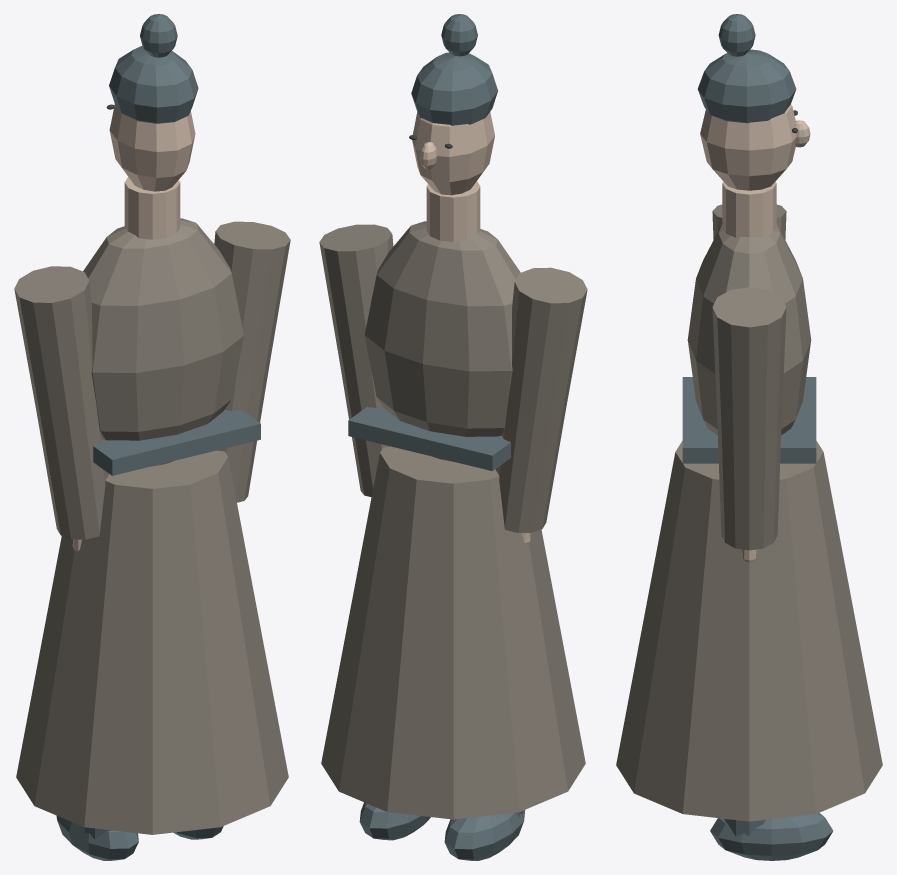
Rendered from CH-XTY.glb.
The picture shows the model from 3 angles, left to right: view 1: azimuth 30°, elevation 25°; view 2: azimuth 150°, elevation 25°; view 3: azimuth 270°, elevation 25°; orthographic projection. The views are drawn at different scales.
Parts seen in each view (by area): view 1: robe_skirt, torso, upper_arm_L, upper_arm_R, sleeve_L, hair, head, belt, neck, sleeve_R, boot_L, hair_bun; view 2: robe_skirt, torso, upper_arm_L, upper_arm_R, sleeve_L, hair, belt, head, boot_L, neck, sleeve_R, boot_R (+1 smaller); view 3: robe_skirt, torso, upper_arm_R, sleeve_R, head, hair, belt, boot_R, neck, hair_bun, upper_arm_L.
Part boxes in pixels (x1,y1,x2,y2): robe_skirt: (16, 450, 288, 834); torso: (83, 218, 243, 466); upper_arm_L: (14, 266, 97, 423); upper_arm_R: (214, 221, 290, 378); sleeve_L: (36, 411, 108, 539); hair: (109, 46, 198, 123); head: (109, 104, 195, 191); belt: (93, 410, 260, 475); neck: (124, 177, 180, 239); sleeve_R: (217, 370, 268, 502); boot_L: (56, 816, 138, 860); hair_bun: (140, 14, 177, 57); robe_skirt: (321, 446, 585, 819); torso: (364, 221, 520, 462); upper_arm_L: (507, 267, 587, 419); upper_arm_R: (319, 224, 393, 376); sleeve_L: (495, 409, 565, 532); hair: (411, 52, 497, 125); belt: (348, 407, 510, 470); head: (412, 112, 494, 195); boot_L: (444, 810, 525, 860); neck: (426, 181, 480, 241); sleeve_R: (341, 369, 390, 497); boot_R: (359, 802, 430, 840); robe_skirt: (616, 441, 882, 821); torso: (687, 224, 811, 434); upper_arm_R: (712, 287, 786, 440); sleeve_R: (717, 424, 781, 550); head: (700, 104, 796, 190); hair: (697, 49, 796, 123); belt: (682, 377, 816, 463); boot_R: (710, 813, 833, 860); neck: (722, 181, 776, 237); hair_bun: (718, 14, 755, 56); upper_arm_L: (712, 204, 786, 239).
Size of the model in its own units: 0.6085 by 1.84 by 0.54.
